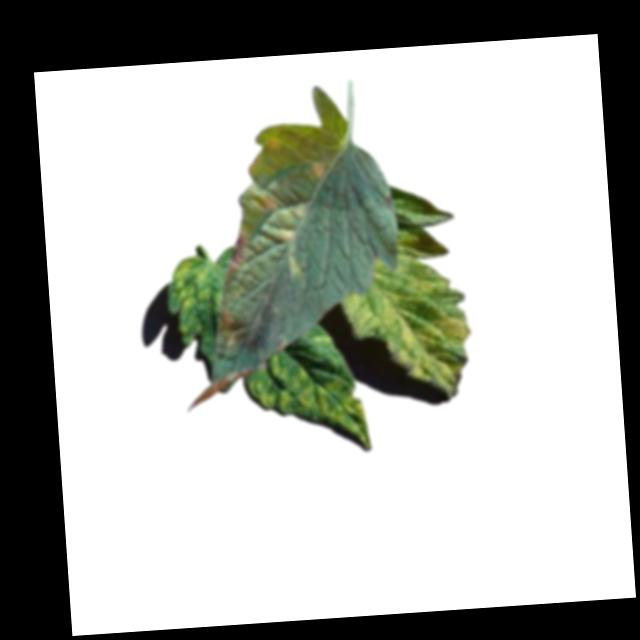Leaf_Mold: (338, 225, 476, 399), (245, 344, 372, 460), (233, 184, 316, 281), (167, 256, 211, 339), (215, 304, 247, 352)
